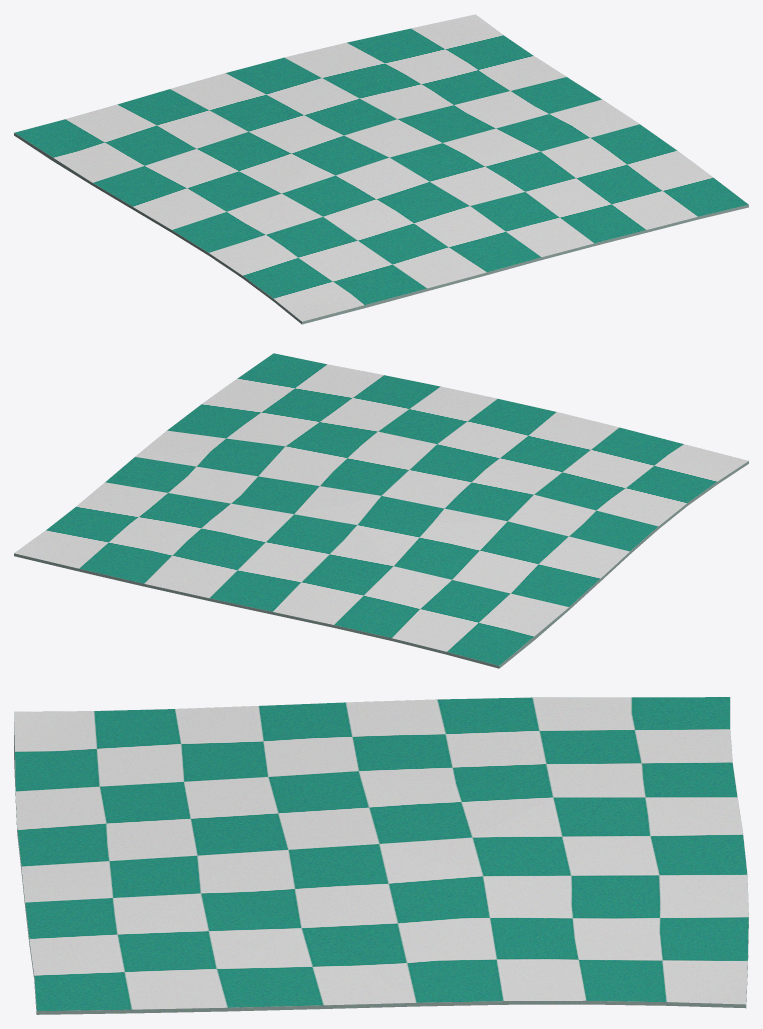
Rendered from picnicFarbric.gltf.
3 renders of one model, top to bottom at view 1: azimuth 30°, elevation 25°; view 2: azimuth 150°, elevation 25°; view 3: azimuth 270°, elevation 25°, orthographic. The views are drawn at different scales.
Visible parts, largest first — view 1: Farbric; view 2: Farbric; view 3: Farbric.
Part boxes in pixels (x1,y1,x2,y2): Farbric: (14,14,748,324); Farbric: (14,353,748,668); Farbric: (14,697,748,1014).
Bounding box in the file's own units: 0.3614 × 0.00972 × 0.3574.
1 material, 1 textured.
